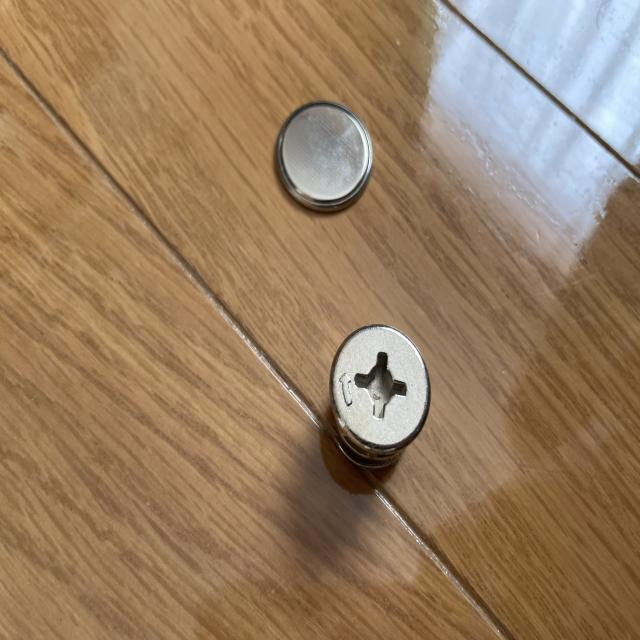COIN: (276, 101, 374, 217)
